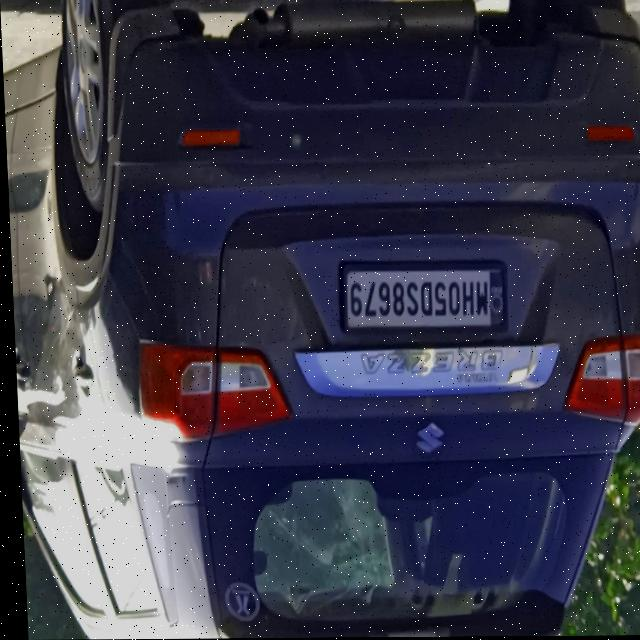plate: (335, 255, 507, 334)
